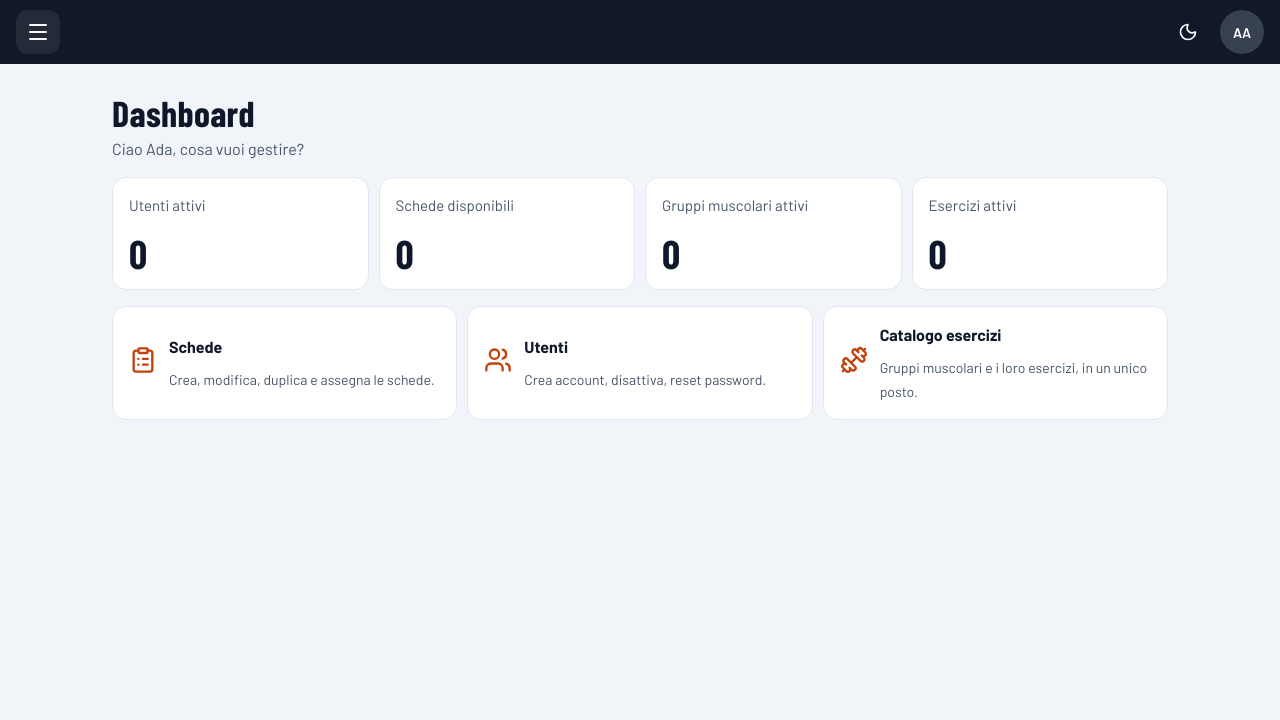
Scenario: mockup navigation and preferences › closes the desktop drawer on navigation and keeps the active link
This screenshot has width=1280, height=720.
Click the button named "Apri menu" at [38, 32], box [16, 10, 60, 54]
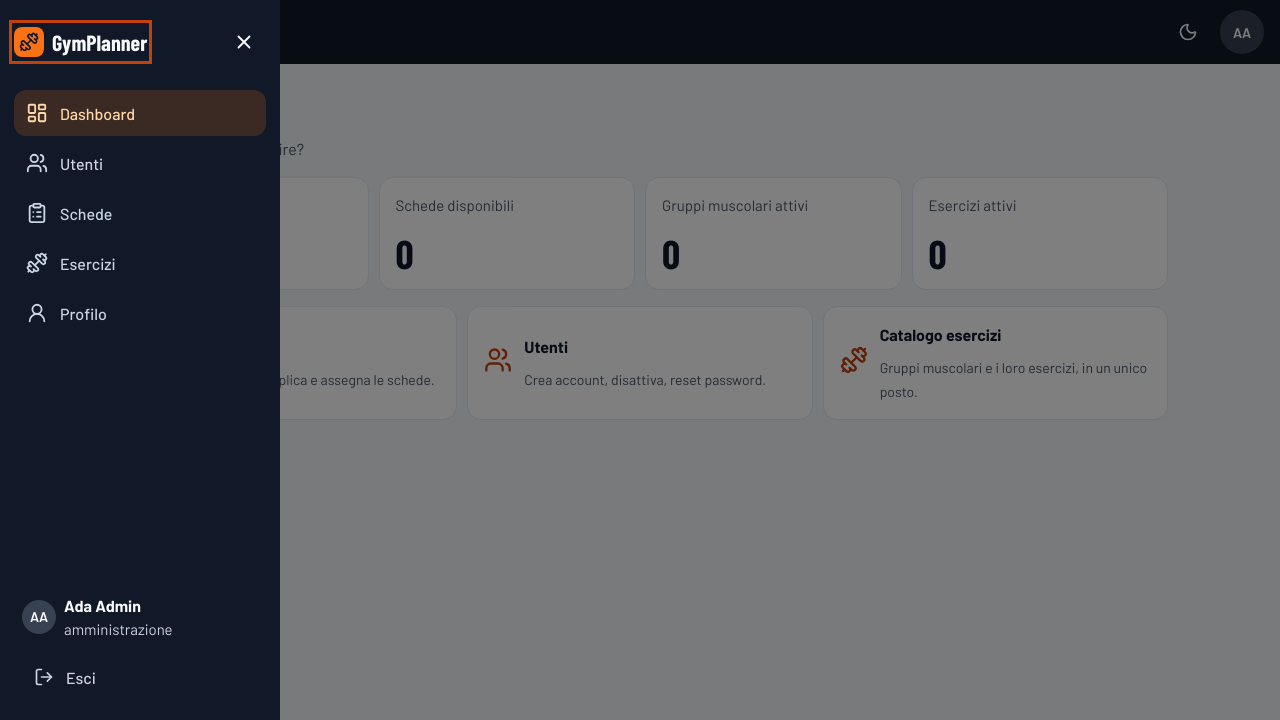
Expected: the button named "Apri menu" is expanded, [16, 10, 60, 54]
Click the link "Utenti" at [65, 163], box [26, 152, 103, 174]
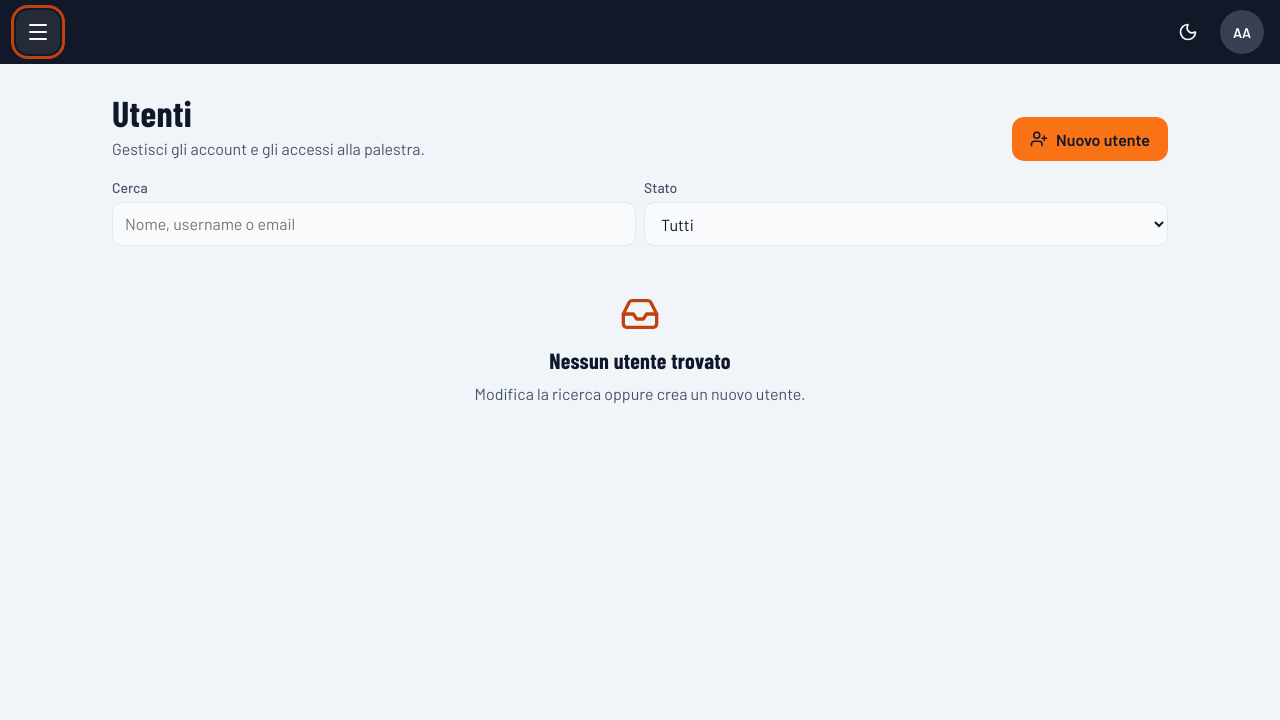
Expected: the button named "Apri menu" is collapsed, [16, 10, 60, 54]
Expected: the dialog is gone
